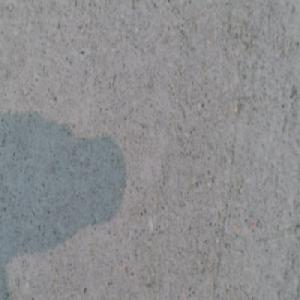Washer: (148, 286, 172, 300)
